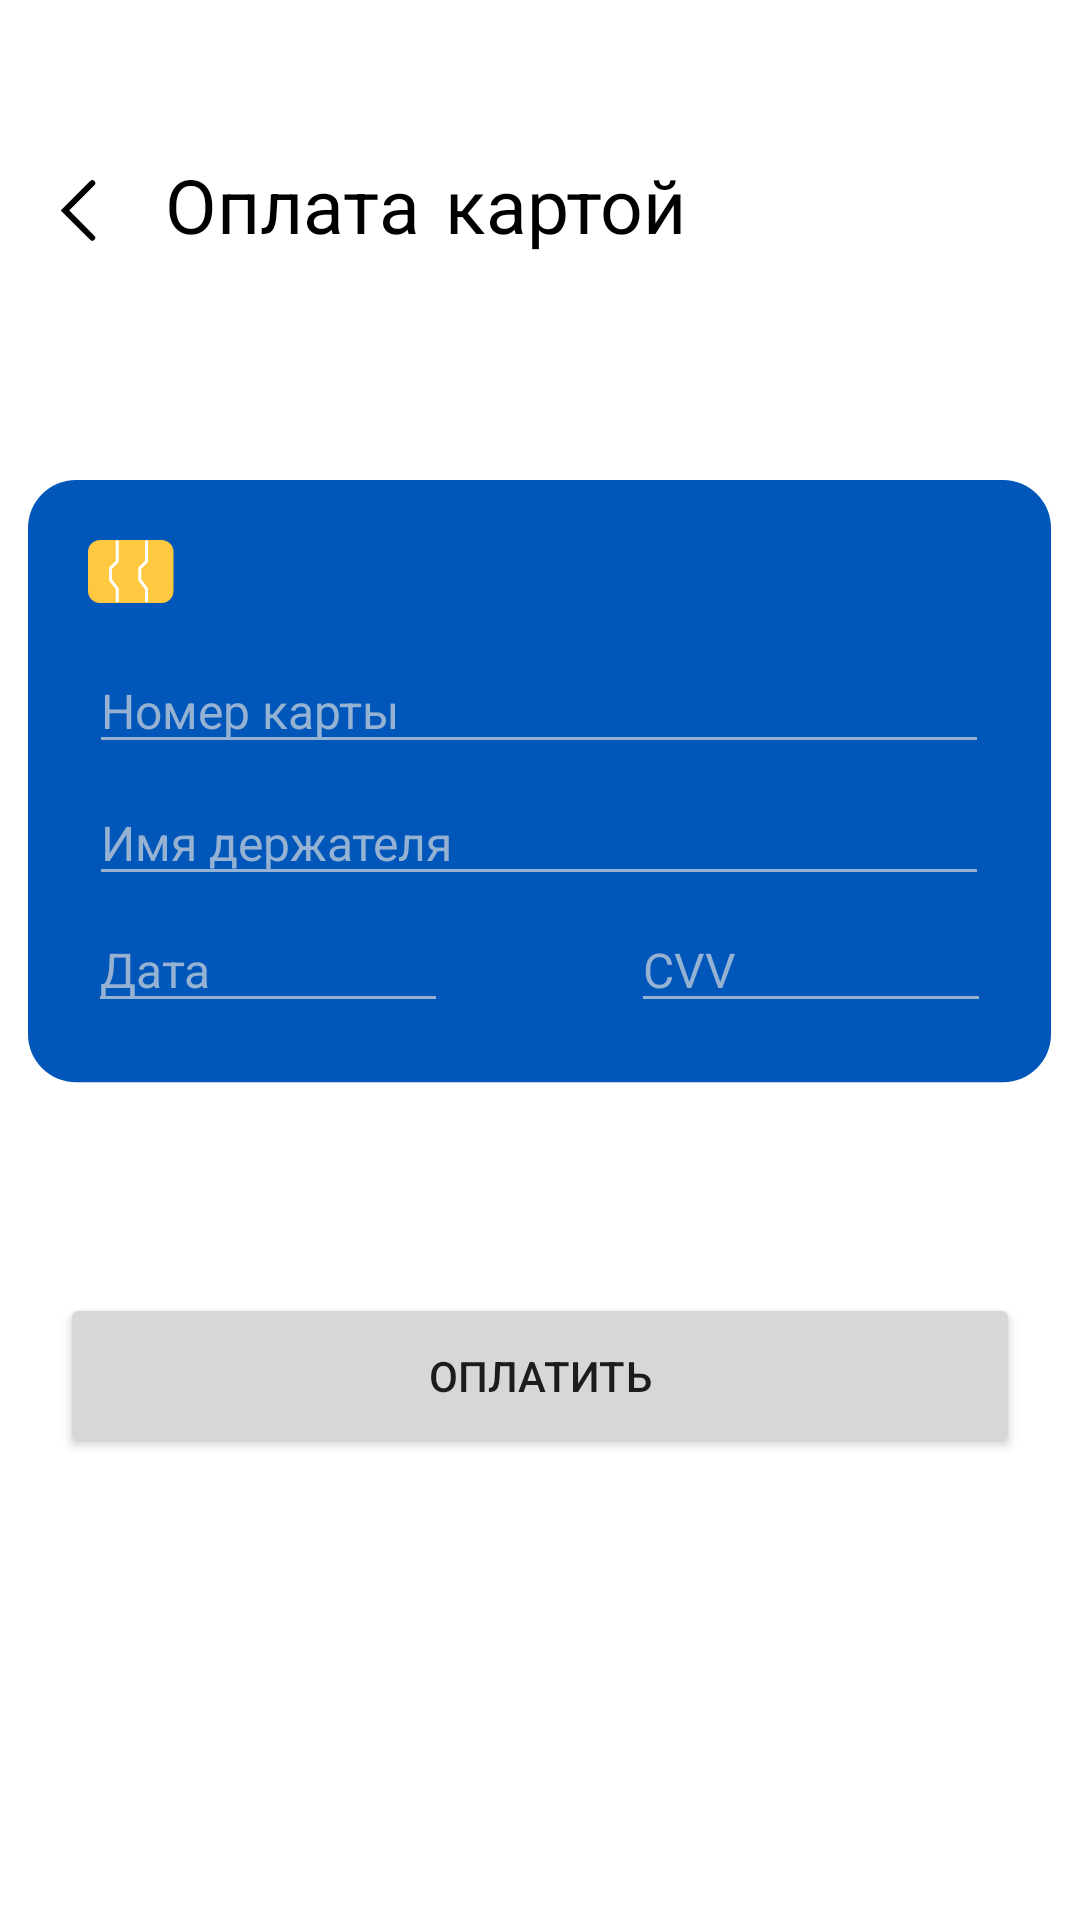

Icon bounding boxes for this 1080px x 1920px phone screenshot, format (x1, y1, x2, y2):
card chip: (88, 540, 174, 603)
sign back: (61, 180, 96, 241)
